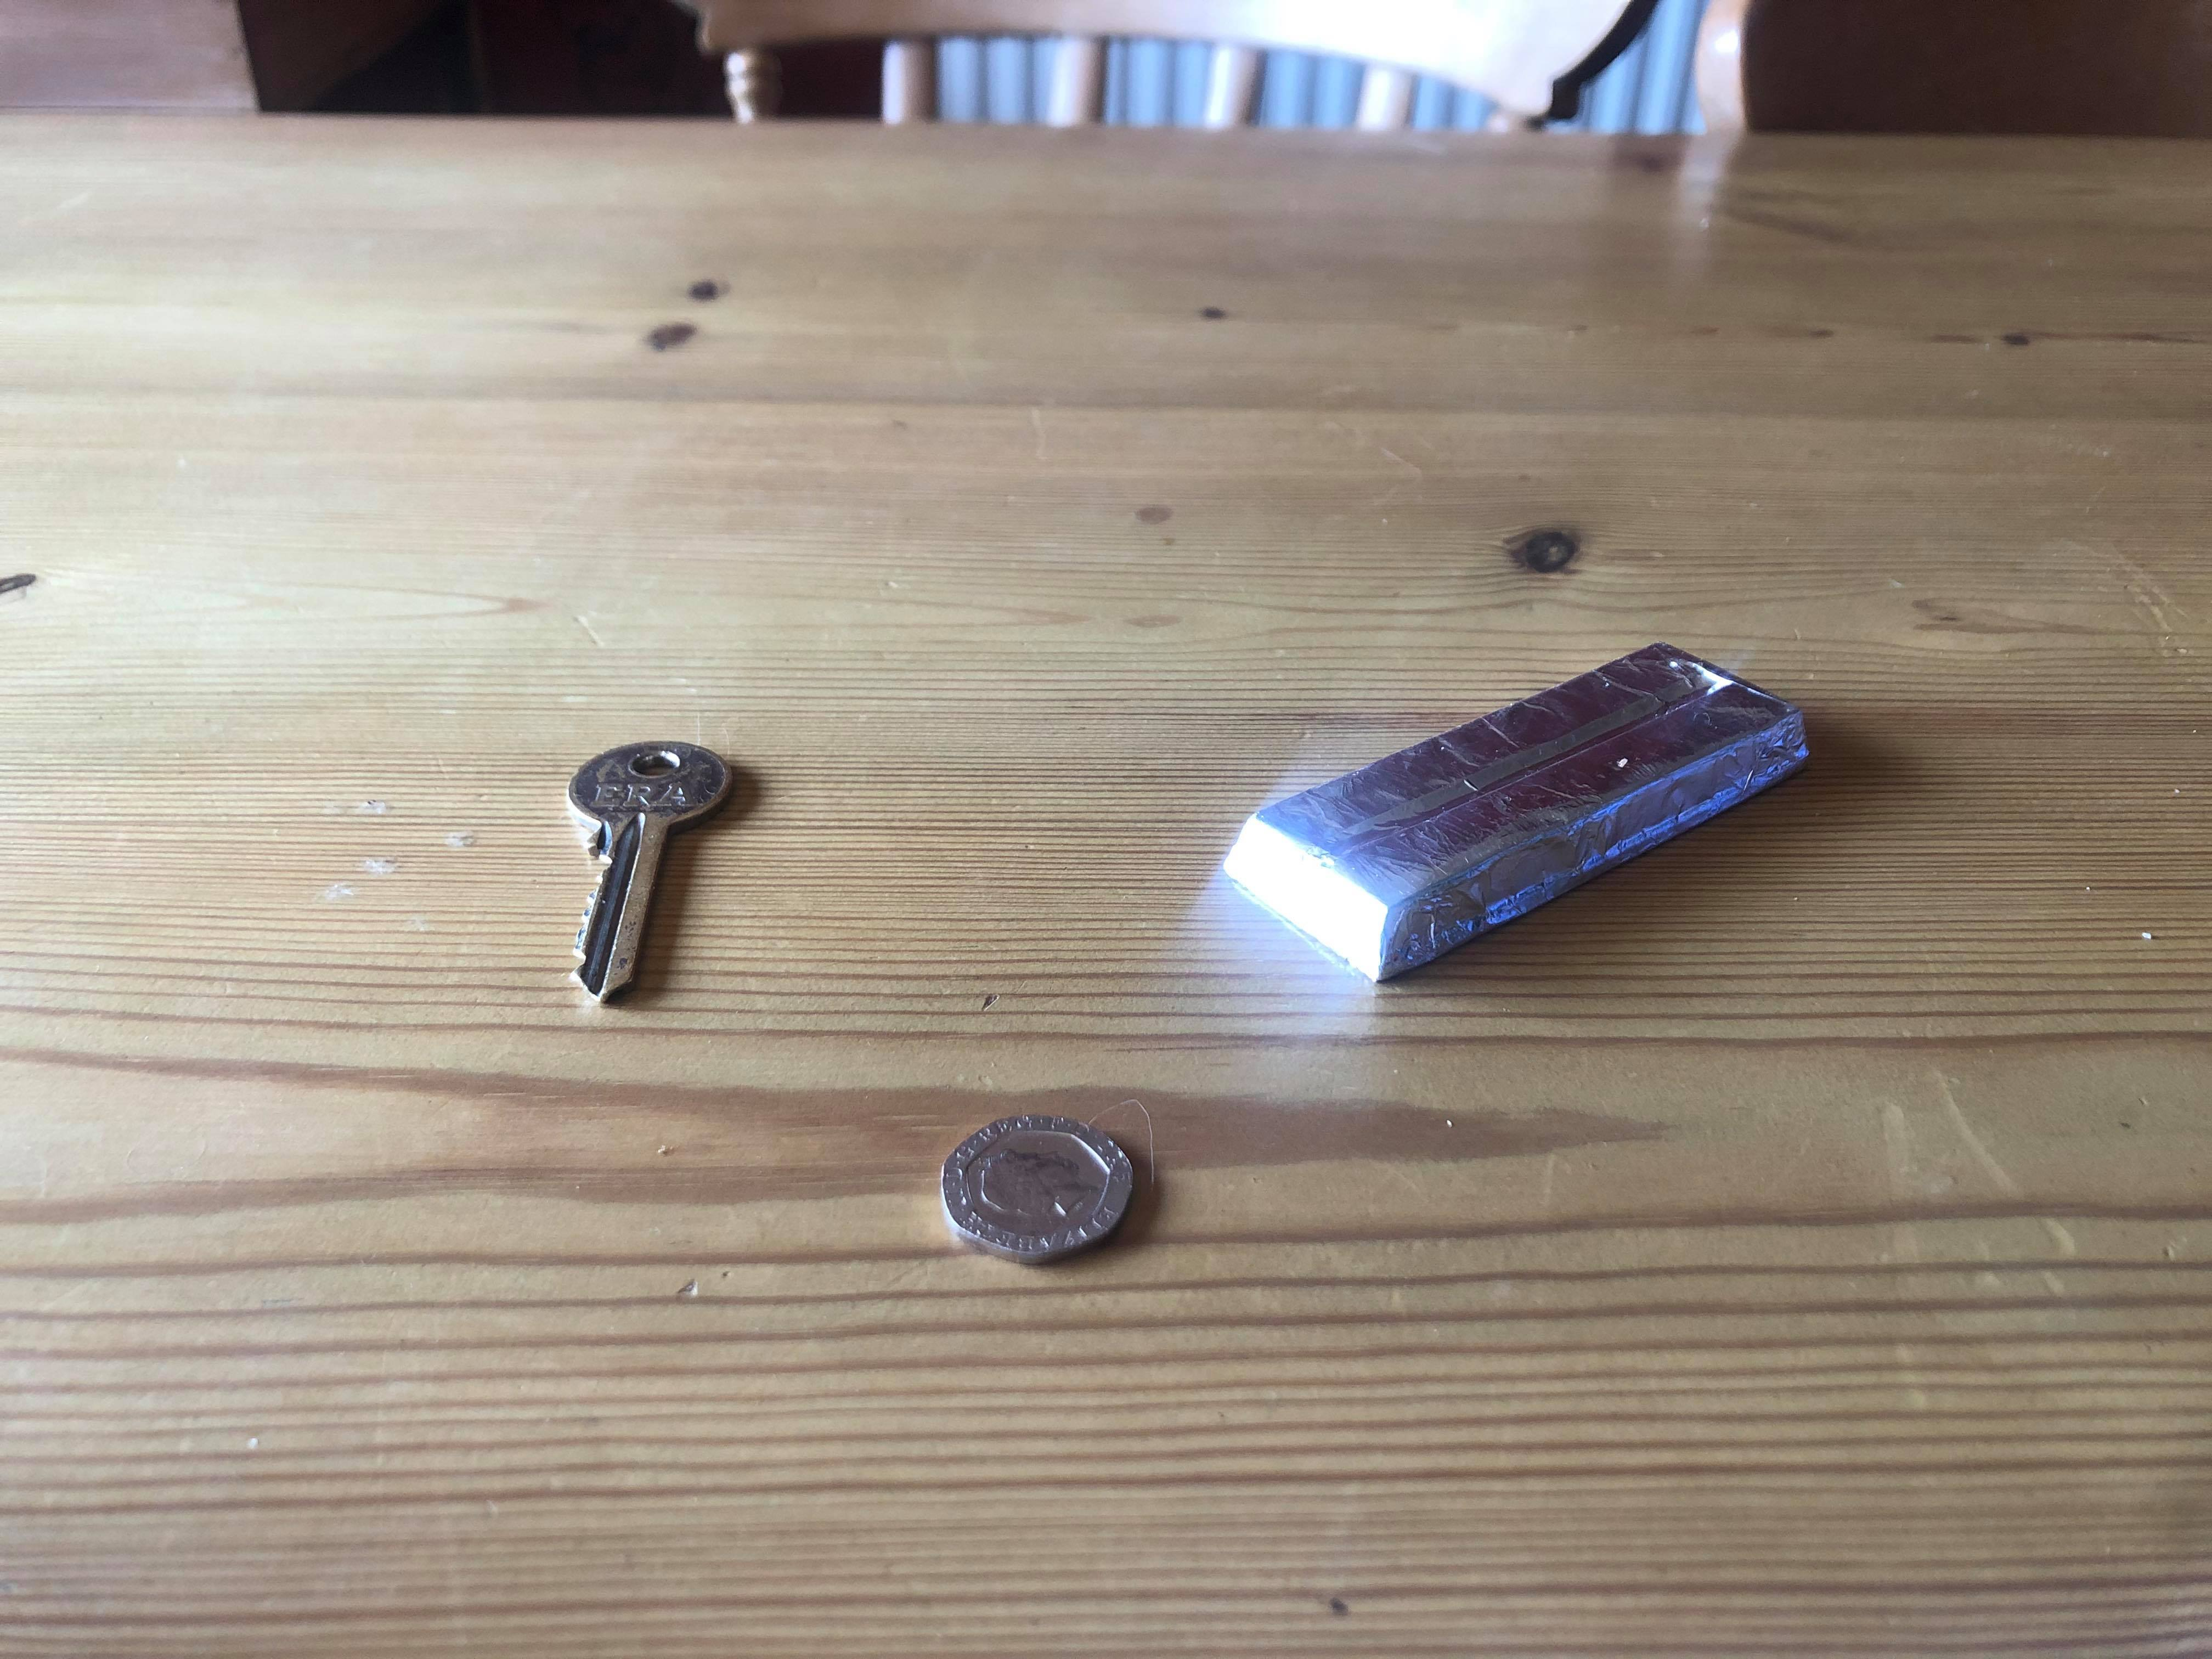Coin: (930, 1107, 1143, 1267)
Foil: (1217, 634, 1817, 999)
Key: (559, 730, 735, 1011)
